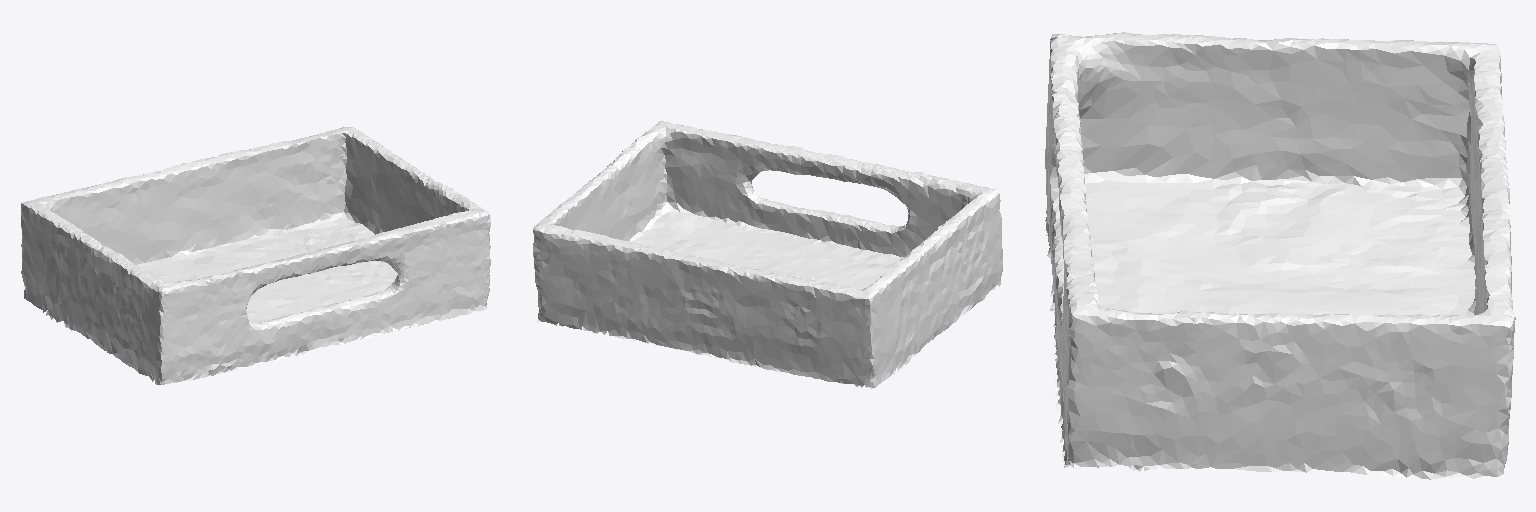
URDF robot description (box.urdf):
<?xml version="0.0" ?>
<robot name="box.urdf">
  <link name="baseLink">
    <contact>
      <lateral_friction value="1.0"/>
    </contact>
    <inertial>
      <origin rpy="0 0 0" xyz="0 0 0"/>
       <mass value=".0"/>
       <inertia ixx="1" ixy="0" ixz="0" iyy="1" iyz="0" izz="1"/>
    </inertial>
    <visual>
      <origin rpy="0 0 0" xyz="0 0 0"/>
      <geometry>
				<mesh filename="boxlidleftLowRes_bright.obj" scale="1 1 1"/>
      </geometry>
         <material name="white">
        <color rgba="1 1 1 1"/>
      </material>
    </visual>
    <collision>
      <origin rpy="0 0 0" xyz="0 0 0"/>
      <geometry>
	 	<mesh filename="boxlidleftLowRes_vhacd.obj" scale="1 1 1"/>
      </geometry>
    </collision>
  </link>
</robot>

--- What the picture shows (computed from the rendered views, not written in the file) ---
The picture shows the robot from 3 angles, left to right: view 1: azimuth 30°, elevation 25°; view 2: azimuth 150°, elevation 25°; view 3: azimuth 270°, elevation 25°; orthographic projection.
Model box.urdf with 1 links and 0 joints (none), rooted at baseLink, posed all joints at 0.
Visible links, largest first — view 1: baseLink; view 2: baseLink; view 3: baseLink.
Boxes of the visible links, x1=… form: baseLink: x1=21, y1=127, x2=490, y2=384; baseLink: x1=533, y1=121, x2=1002, y2=389; baseLink: x1=1045, y1=32, x2=1515, y2=479.
Bounding box of the posed robot: 0.1603 × 0.1153 × 0.0499 m (x, y, z).
1 mesh visuals loaded from 1 distinct referenced files (1 OBJ).
